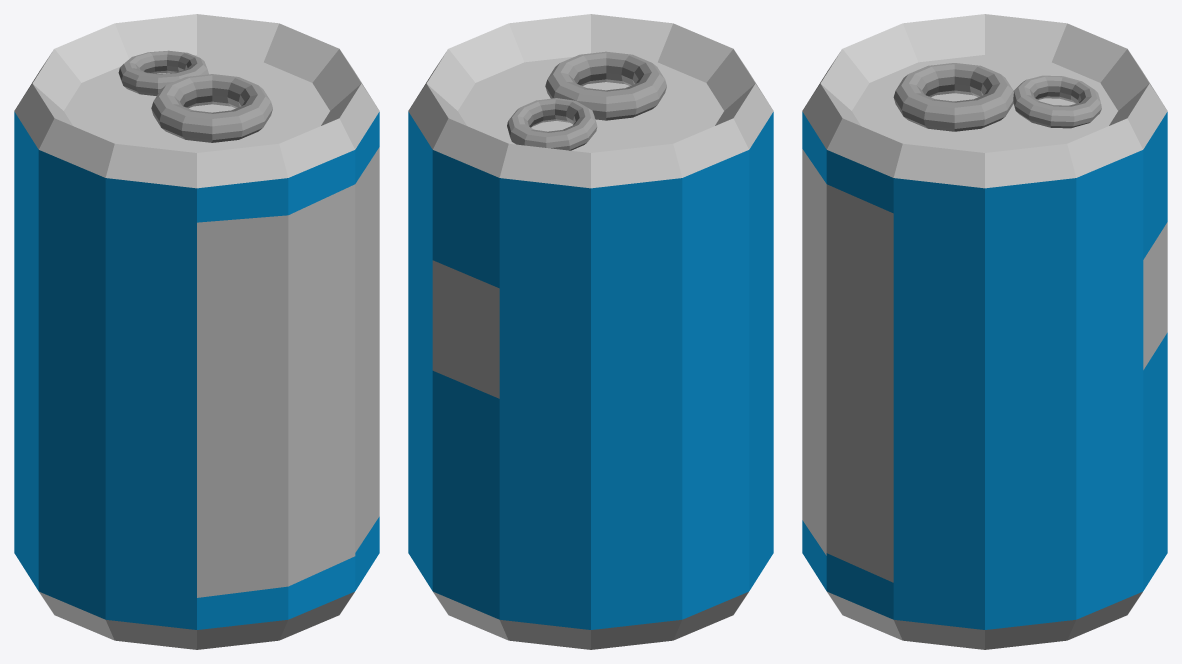
The model's file is Pepsi.obj.
The picture shows the model from 3 angles, left to right: view 1: azimuth 30°, elevation 25°; view 2: azimuth 150°, elevation 25°; view 3: azimuth 270°, elevation 25°; orthographic projection.
Bounding box in the file's own units: 0.12 × 0.18 × 0.12.
